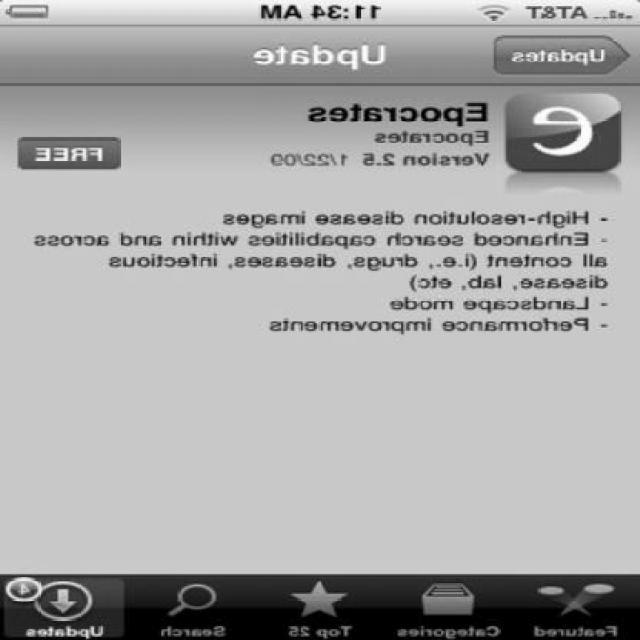fake: (0, 3, 640, 640)
